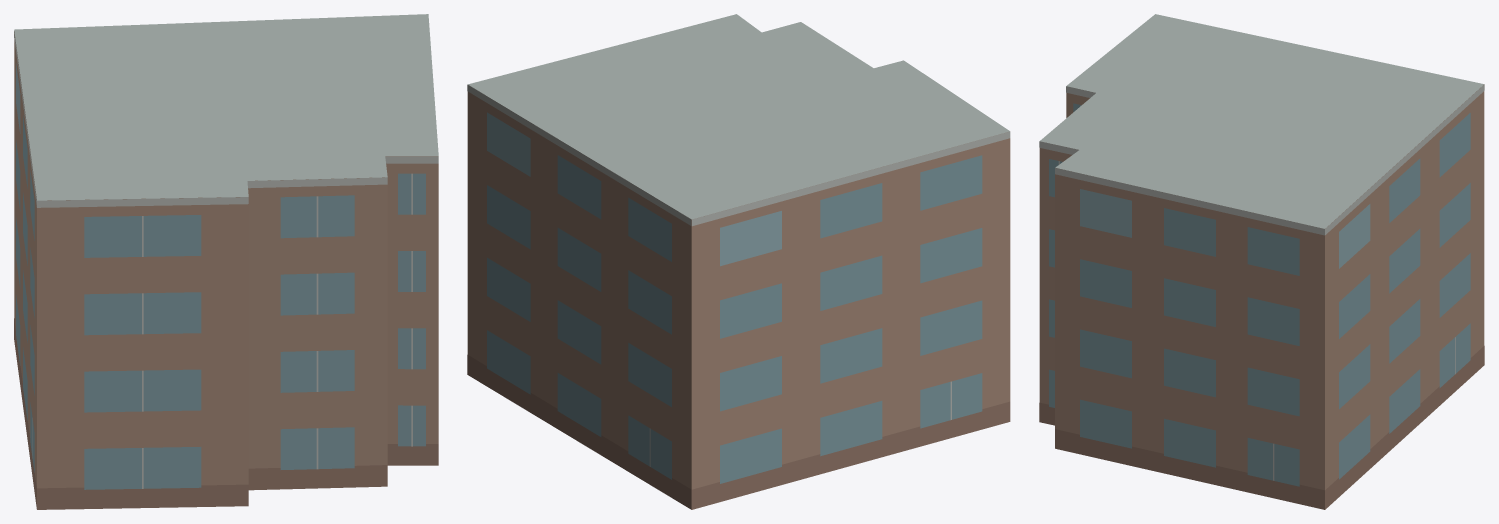
File: survey-upis-32585918.glb
3 renders of one model, left to right at view 1: azimuth 30°, elevation 25°; view 2: azimuth 150°, elevation 25°; view 3: azimuth 270°, elevation 25°, orthographic. The views are drawn at different scales.
Visible parts, largest first — view 1: survey-upis-32585918.tmp; view 2: survey-upis-32585918.tmp; view 3: survey-upis-32585918.tmp.
Part boxes in pixels (box(x1,y1,x2,y2)): survey-upis-32585918.tmp: box(14, 14, 438, 509); survey-upis-32585918.tmp: box(467, 14, 1010, 509); survey-upis-32585918.tmp: box(1039, 14, 1484, 509).
Bounding box in the file's own units: 17.07 × 10.4 × 14.94.
